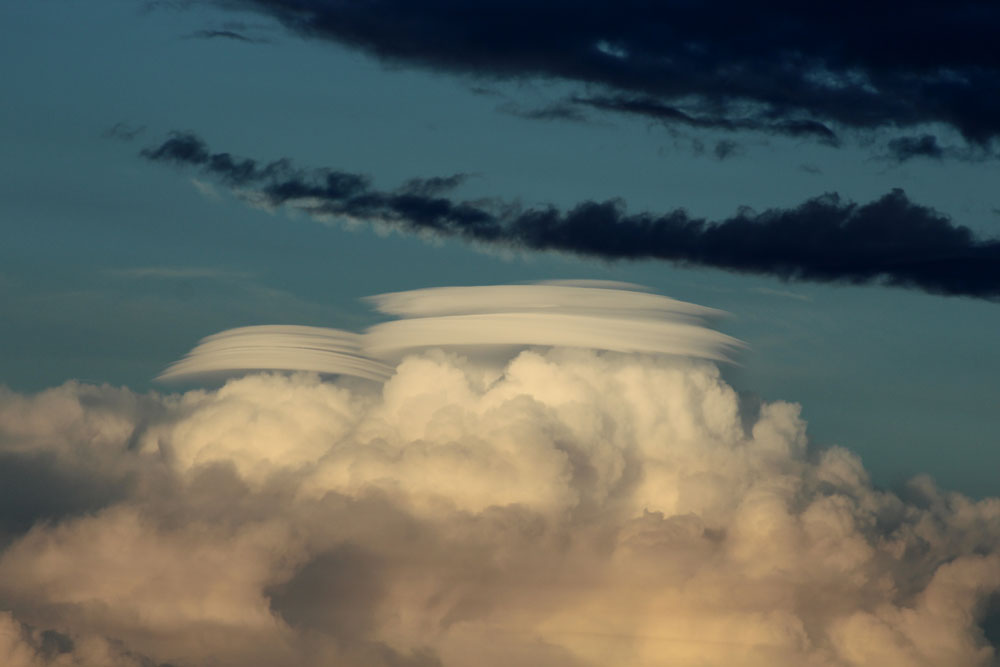Cumulus: (345, 252, 984, 667), (31, 274, 370, 661)
